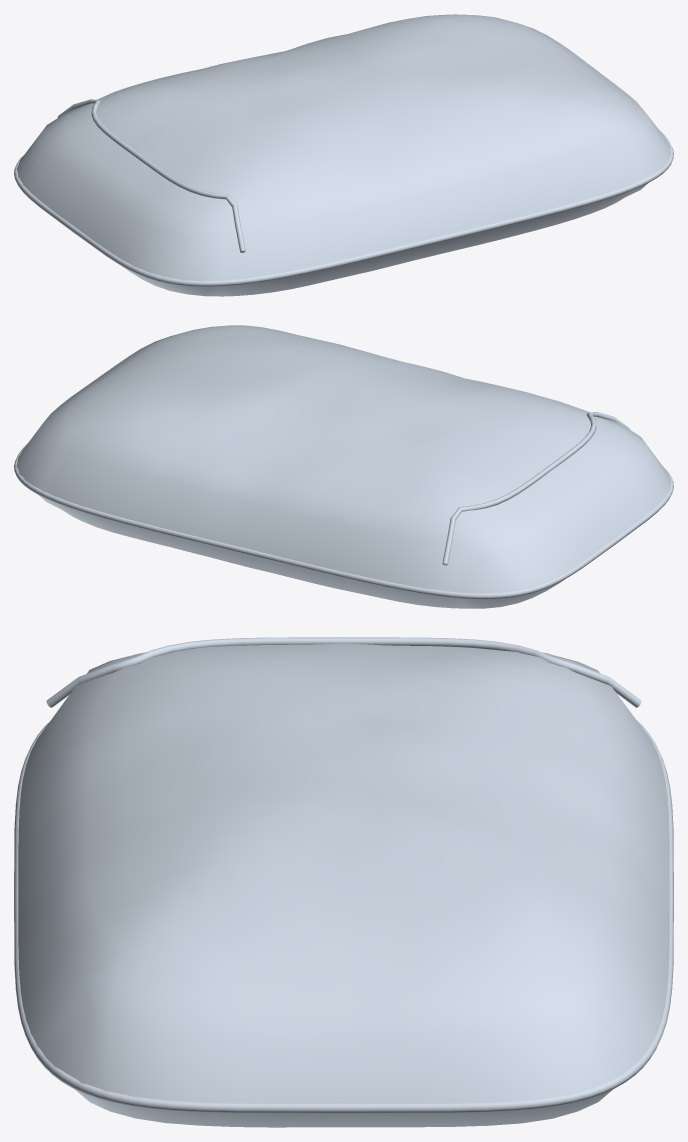
Rendered from textiles_pillow_made_b.fbx.
3 renders of one model, top to bottom at view 1: azimuth 30°, elevation 25°; view 2: azimuth 150°, elevation 25°; view 3: azimuth 270°, elevation 25°, orthographic. The views are drawn at different scales.
Parts seen in each view (by area): view 1: textiles_pillow_made_b; view 2: textiles_pillow_made_b; view 3: textiles_pillow_made_b.
Part boxes in pixels (box(x1,y1,x2,y2)): textiles_pillow_made_b: box(14, 14, 673, 296); textiles_pillow_made_b: box(14, 325, 673, 608); textiles_pillow_made_b: box(14, 637, 673, 1127).
Bounding box in the file's own units: 0.663 × 0.1623 × 0.433.
